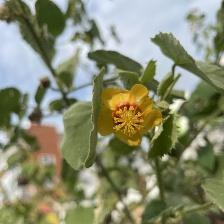indian mallow: (98, 84, 163, 150)
